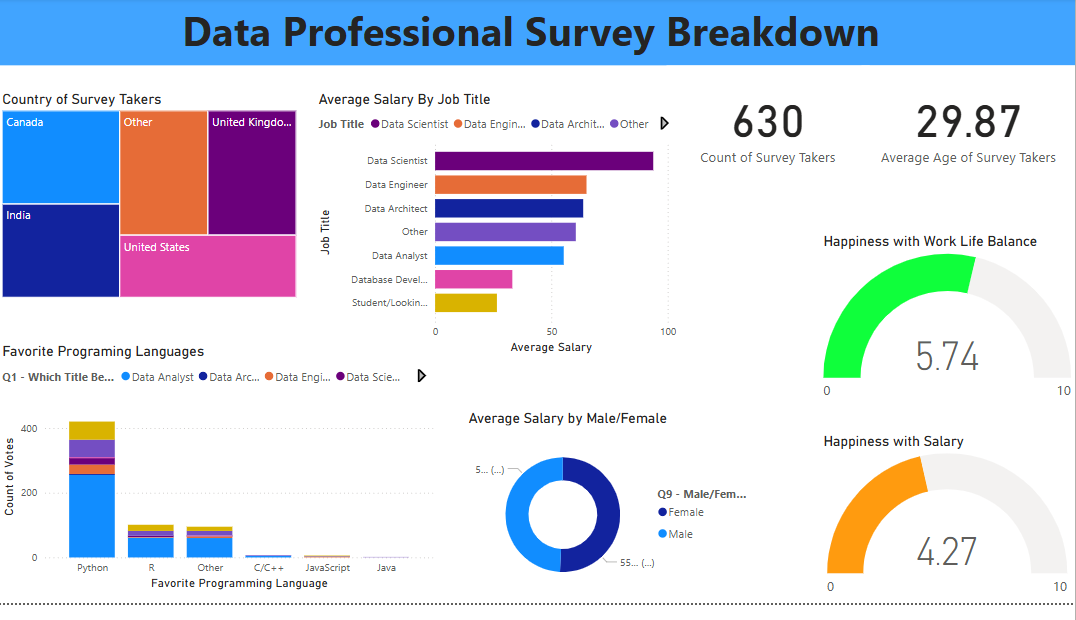

Layout of this report page (visuals, bound fields, positions):
{"tool":"powerbi","page":{"name":"Page 1","canvas":[1280,720],"ordinal":0},"visuals":[{"type":"textbox","box":[0,0,1280.3,80.2],"z":0},{"type":"card","fields":{"Values":["CountNonNull(Data Professional Survey.Unique ID)"]},"box":[794.6,80.2,240.6,141.1],"z":1000},{"type":"card","fields":{"Values":["Avg(Data Professional Survey.Q10 - Current Age)"]},"box":[1026.3,80.2,254,141.1],"z":2000},{"type":"barChart","title":"Average Salary By Job Title","fields":{"Category":["Data Professional Survey.Q1 - Which Title Best Fits your Current Role?.1"],"Y":["Avg(Data Professional Survey.Average Salary)"],"Series":["Data Professional Survey.Q1 - Which Title Best Fits your Current Role?.1"]},"box":[375.8,109.9,435.2,317.8],"z":3000},{"type":"columnChart","title":"Favorite Programing Languages","fields":{"Category":["Data Professional Survey.Q5 - Favorite Programming Language.1"],"Y":["CountNonNull(Data Professional Survey.Unique ID)"],"Series":["Data Professional Survey.Q1 - Which Title Best Fits your Current Role?.1"]},"box":[0,409.9,522.8,298.5],"z":4000},{"type":"treemap","title":"Country of Survey Takers","fields":{"Group":["Data Professional Survey.Q11 - Which Country do you live in?.1"],"Values":["Count(Data Professional Survey.Q11 - Which Country do you live in?.1)"]},"box":[0,109.9,359.4,251],"z":5000},{"type":"gauge","title":"Happiness with Salary","fields":{"Y":["Avg(Data Professional Survey.Q6 - How Happy are you in your Current Position with the following? (Salary))"],"MinValue":["Min(Data Professional Survey.Q6 - How Happy are you in your Current Position with the following? (Salary))"],"MaxValue":["Max(Data Professional Survey.Q6 - How Happy are you in your Current Position with the following? (Salary))1"]},"box":[975.8,516.9,304.5,203.5],"z":6000},{"type":"gauge","title":"Happiness with Work Life Balance","fields":{"Y":["Avg(Data Professional Survey.Q6 - How Happy are you in your Current Position with the following? (Work/Life Balance))"],"MinValue":["Min(Data Professional Survey.Q6 - How Happy are you in your Current Position with the following? (Work/Life Balance))1"],"MaxValue":["Max(Data Professional Survey.Q6 - How Happy are you in your Current Position with the following? (Work/Life Balance))2"]},"box":[975.8,279.2,304.5,209.4],"z":7000},{"type":"donutChart","title":"Average Salary by Male/Female","fields":{"Category":["Data Professional Survey.Q9 - Male/Female?"],"Y":["Avg(Data Professional Survey.Average Salary)"]},"box":[554,488.7,344.6,231.7],"z":8000}]}

Visuals, with their boxes in screenshot pixels (x1, y1, x2, y2), scaled from the page's 1280x720 canvas onto the 1076x620 screenshot:
textbox: (0,0,1075,69)
card - CountNonNull(Data Professional Survey.Unique ID): (668,69,870,191)
card - Avg(Data Professional Survey.Q10 - Current Age): (863,69,1075,191)
"Average Salary By Job Title" barChart: (316,95,682,368)
"Favorite Programing Languages" columnChart: (0,353,439,610)
"Country of Survey Takers" treemap: (0,95,302,311)
"Happiness with Salary" gauge: (820,445,1075,619)
"Happiness with Work Life Balance" gauge: (820,240,1075,421)
"Average Salary by Male/Female" donutChart: (466,421,755,619)
